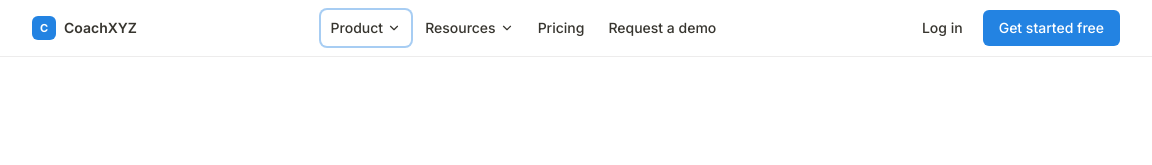
it: HeaderClient marketing nav › desktop nav group exposes menu semantics and Escape returns focus to toggle
Step 1. Click the button "Product" → (366, 28), box [321, 10, 411, 46]
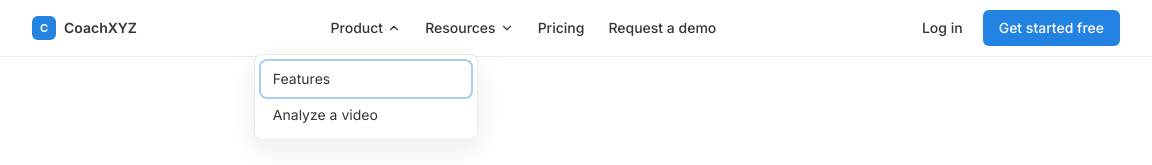
Now the button "Product" is expanded, box [321, 10, 411, 46]
Now the menu is shown, box [254, 54, 478, 140]
Step 2. Press Escape in the menu item "Features", box [261, 61, 471, 97]
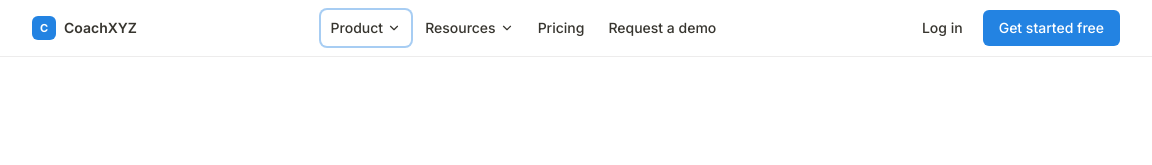
Now the button "Product" is collapsed, box [321, 10, 411, 46]
